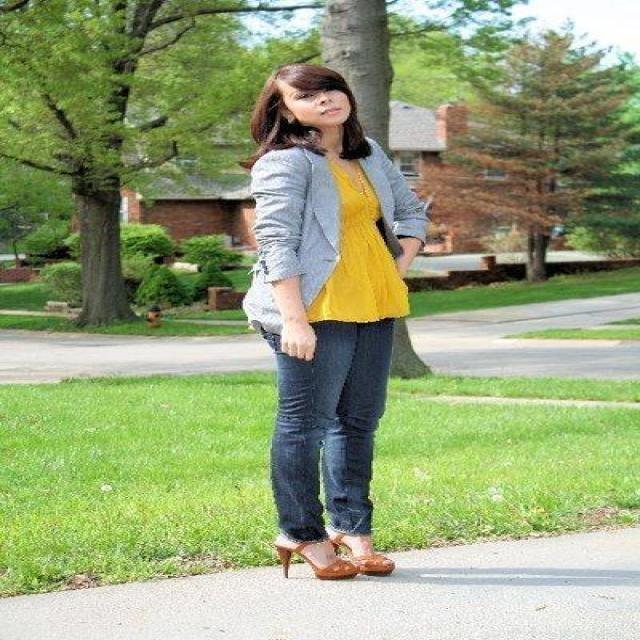jacket: (224, 148, 446, 334)
pants: (250, 320, 394, 542)
shirt: (306, 167, 411, 322)
shoe: (316, 550, 394, 580)
